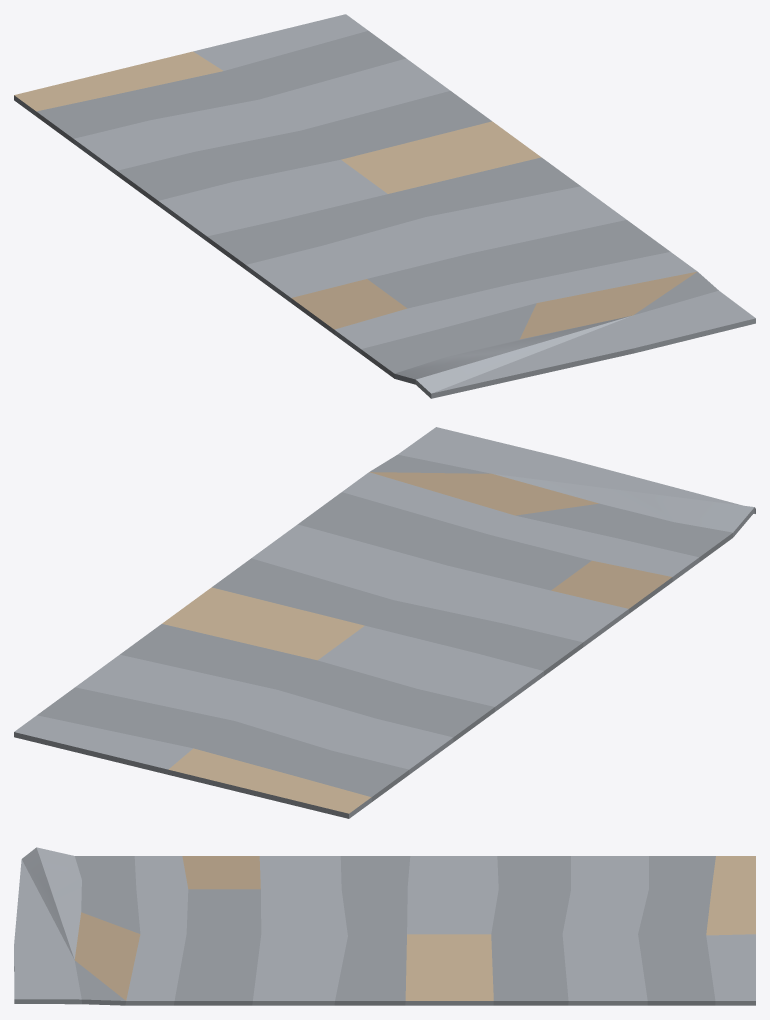
The model's file is SM_Prop_Rug_06.fbx.
3 views of the same model, one above another, from view 1: azimuth 30°, elevation 25°; view 2: azimuth 150°, elevation 25°; view 3: azimuth 270°, elevation 25° (orthographic). The views are drawn at different scales.
Visible parts, largest first — view 1: SM_Prop_Rug_06; view 2: SM_Prop_Rug_06; view 3: SM_Prop_Rug_06.
Part boxes in pixels (x1,y1,x2,y2): SM_Prop_Rug_06: (14, 14, 755, 398); SM_Prop_Rug_06: (14, 427, 755, 818); SM_Prop_Rug_06: (14, 847, 755, 1005).
Size of the model in its own units: 1.01 by 0.0434 by 2.19.
Materials: 1 (1 with a texture image).
